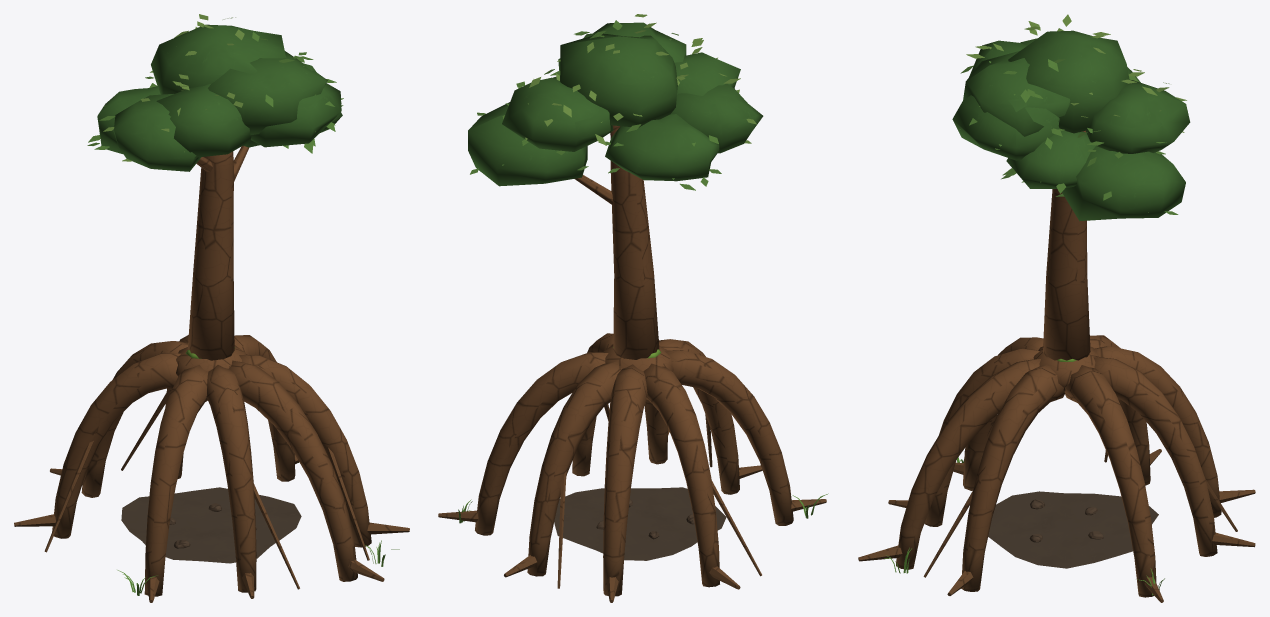
Rendered from tree_root_arch.glb.
3 views of the same model, side by side, from view 1: azimuth 30°, elevation 25°; view 2: azimuth 150°, elevation 25°; view 3: azimuth 270°, elevation 25° (orthographic). The views are drawn at different scales.
Parts seen in each view (by area): view 1: tree_root_arch; view 2: tree_root_arch; view 3: tree_root_arch.
Part boxes in pixels (x1,y1,x2,y2): tree_root_arch: [14, 14, 409, 602]; tree_root_arch: [438, 14, 828, 602]; tree_root_arch: [858, 14, 1255, 602].
Size of the model in its own units: 5.22 by 8.37 by 5.8.
Materials: 8 (8 with a texture image).
